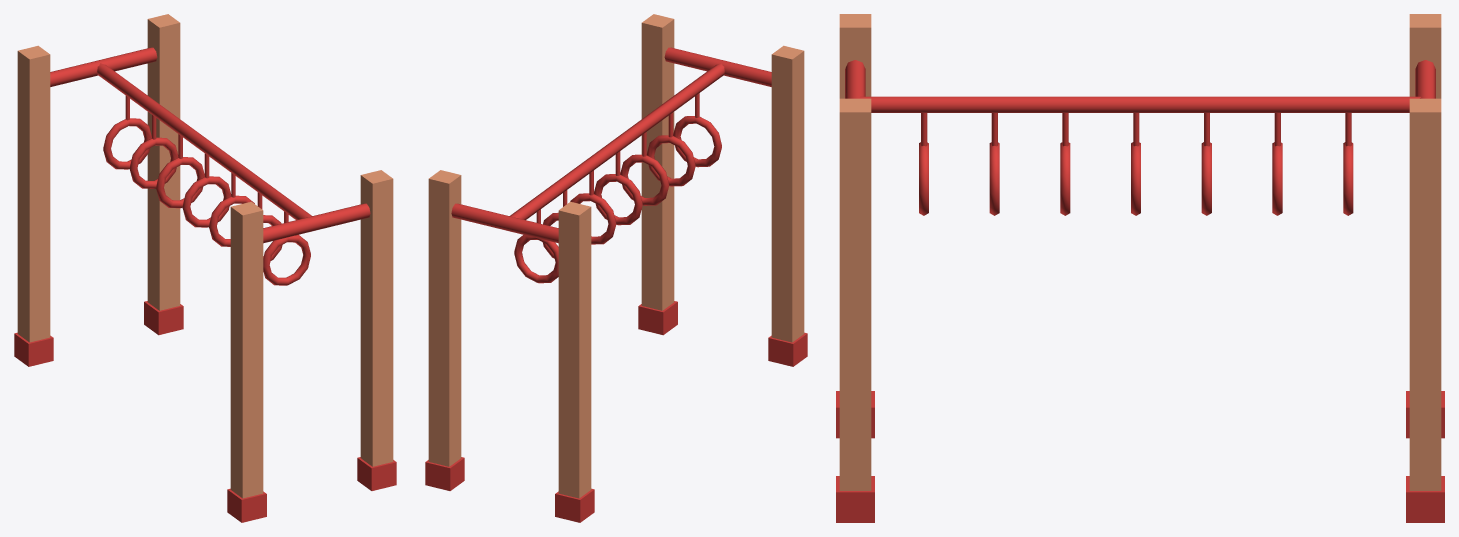
Rendered from ClimbingFrame_01.fbx.
3 renders of one model, left to right at view 1: azimuth 30°, elevation 25°; view 2: azimuth 150°, elevation 25°; view 3: azimuth 270°, elevation 25°, orthographic. The views are drawn at different scales.
Parts seen in each view (by area): view 1: ClimbingFrame_01; view 2: ClimbingFrame_01; view 3: ClimbingFrame_01.
Part boxes in pixels (box(x1,y1,x2,y2)): ClimbingFrame_01: box(14, 14, 396, 522); ClimbingFrame_01: box(425, 14, 807, 522); ClimbingFrame_01: box(836, 14, 1444, 522).
Size of the model in its own units: 1 by 1.89 by 2.54.
